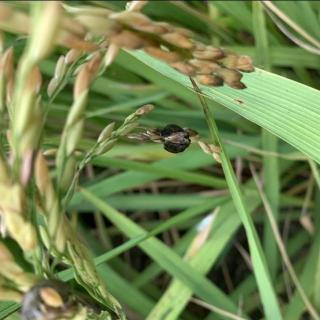Gosong-Palsu: (21, 278, 69, 320), (160, 123, 190, 153)
